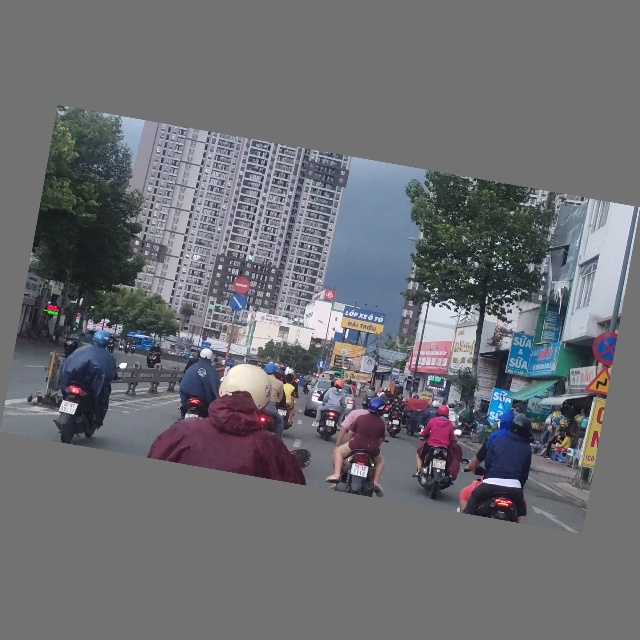I.407a: (316, 359, 326, 369)
I.434a: (390, 368, 400, 380)
P.102: (232, 277, 252, 296)
P.130: (590, 329, 618, 367)
R.302a: (229, 294, 247, 313)
W.202b: (585, 365, 612, 395)
